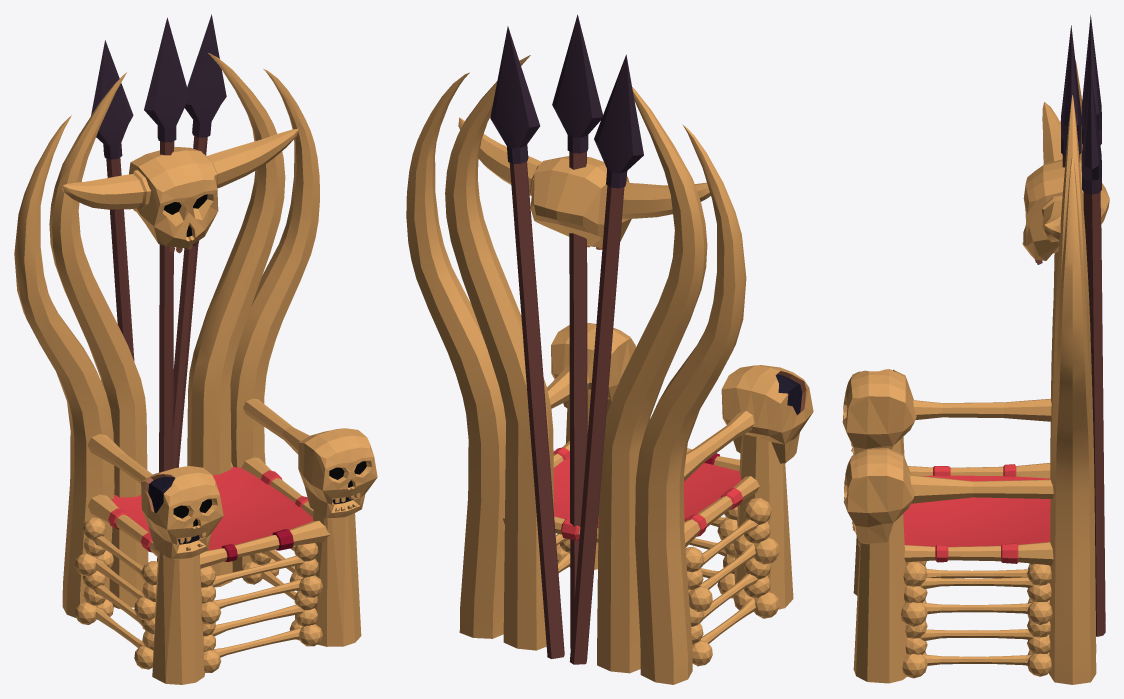
The model's file is Throne Skull 01.fbx.
3 renders of one model, left to right at view 1: azimuth 30°, elevation 25°; view 2: azimuth 150°, elevation 25°; view 3: azimuth 270°, elevation 25°, orthographic. The views are drawn at different scales.
Parts seen in each view (by area): view 1: Throne Skull 01; view 2: Throne Skull 01; view 3: Throne Skull 01.
Boxes of the visible parts, x1,y1,x2,y2 form: Throne Skull 01: (14,14,377,684); Throne Skull 01: (406,14,813,684); Throne Skull 01: (842,15,1109,684).
Bounding box in the file's own units: 139 × 254 × 101.
